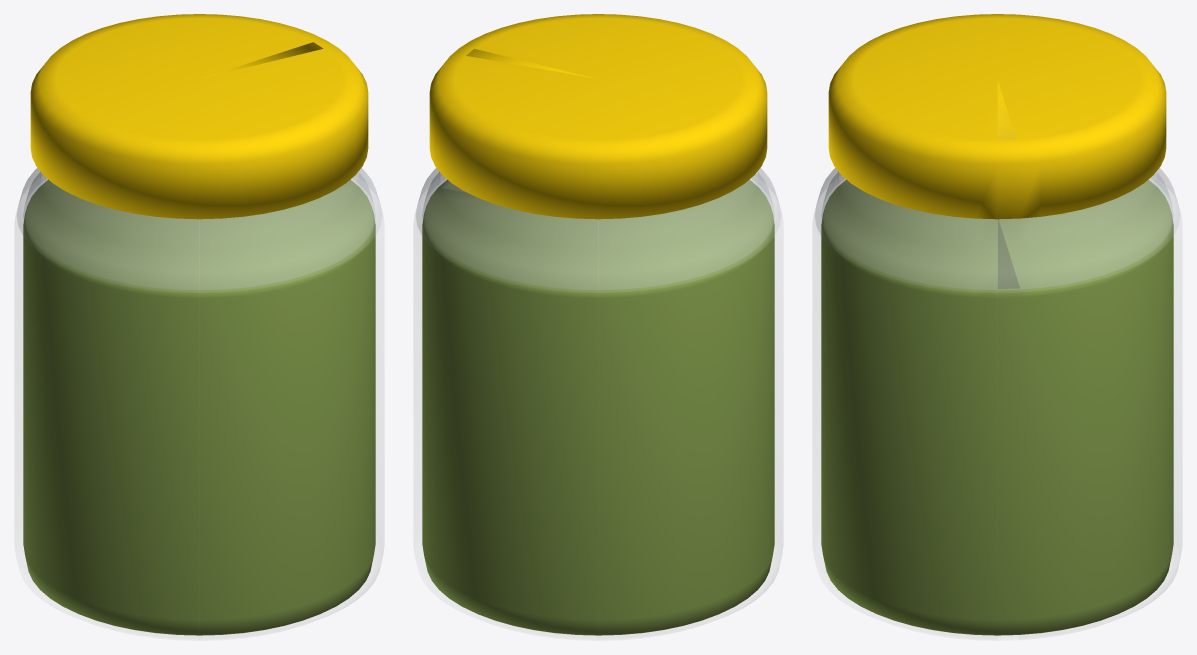
File: item-pickles_500.glb
3 views of the same model, side by side, from view 1: azimuth 30°, elevation 25°; view 2: azimuth 150°, elevation 25°; view 3: azimuth 270°, elevation 25° (orthographic).
Parts seen in each view (by area): view 1: contents, cap, body, wall; view 2: contents, cap, body, wall; view 3: contents, cap, body, wall.
Part boxes in pixels (x1,y1,x2,y2): contents: [23, 179, 375, 635]; cap: [30, 14, 368, 219]; body: [15, 168, 383, 640]; wall: [23, 173, 375, 289]; contents: [422, 179, 774, 635]; cap: [429, 14, 767, 219]; body: [414, 168, 782, 640]; wall: [422, 173, 774, 289]; contents: [821, 179, 1173, 635]; cap: [828, 14, 1166, 219]; body: [813, 112, 1181, 640]; wall: [821, 173, 1173, 289].
Size of the model in its own units: 0.082 by 0.12 by 0.082.
